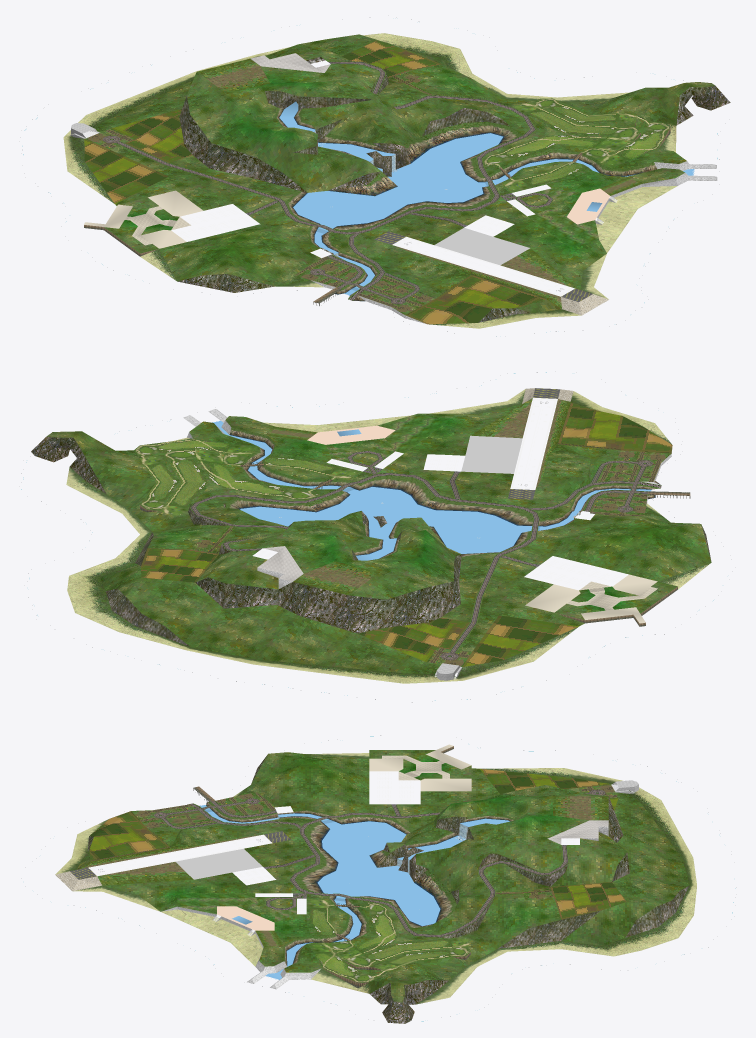
Rendered from world-0.glb.
3 views of the same model, one above another, from view 1: azimuth 30°, elevation 25°; view 2: azimuth 150°, elevation 25°; view 3: azimuth 270°, elevation 25° (orthographic). The views are drawn at different scales.
Parts seen in each view (by area): view 1: world-0; view 2: world-0; view 3: world-0.
Part boxes in pixels (left/top/right/bottom): world-0: left=22, top=19, right=730, bottom=336; world-0: left=21, top=372, right=713, bottom=702; world-0: left=55, top=735, right=735, bottom=1023.
Size of the model in its own units: 1071 by 80 by 1137.
32 materials, 32 textured.
